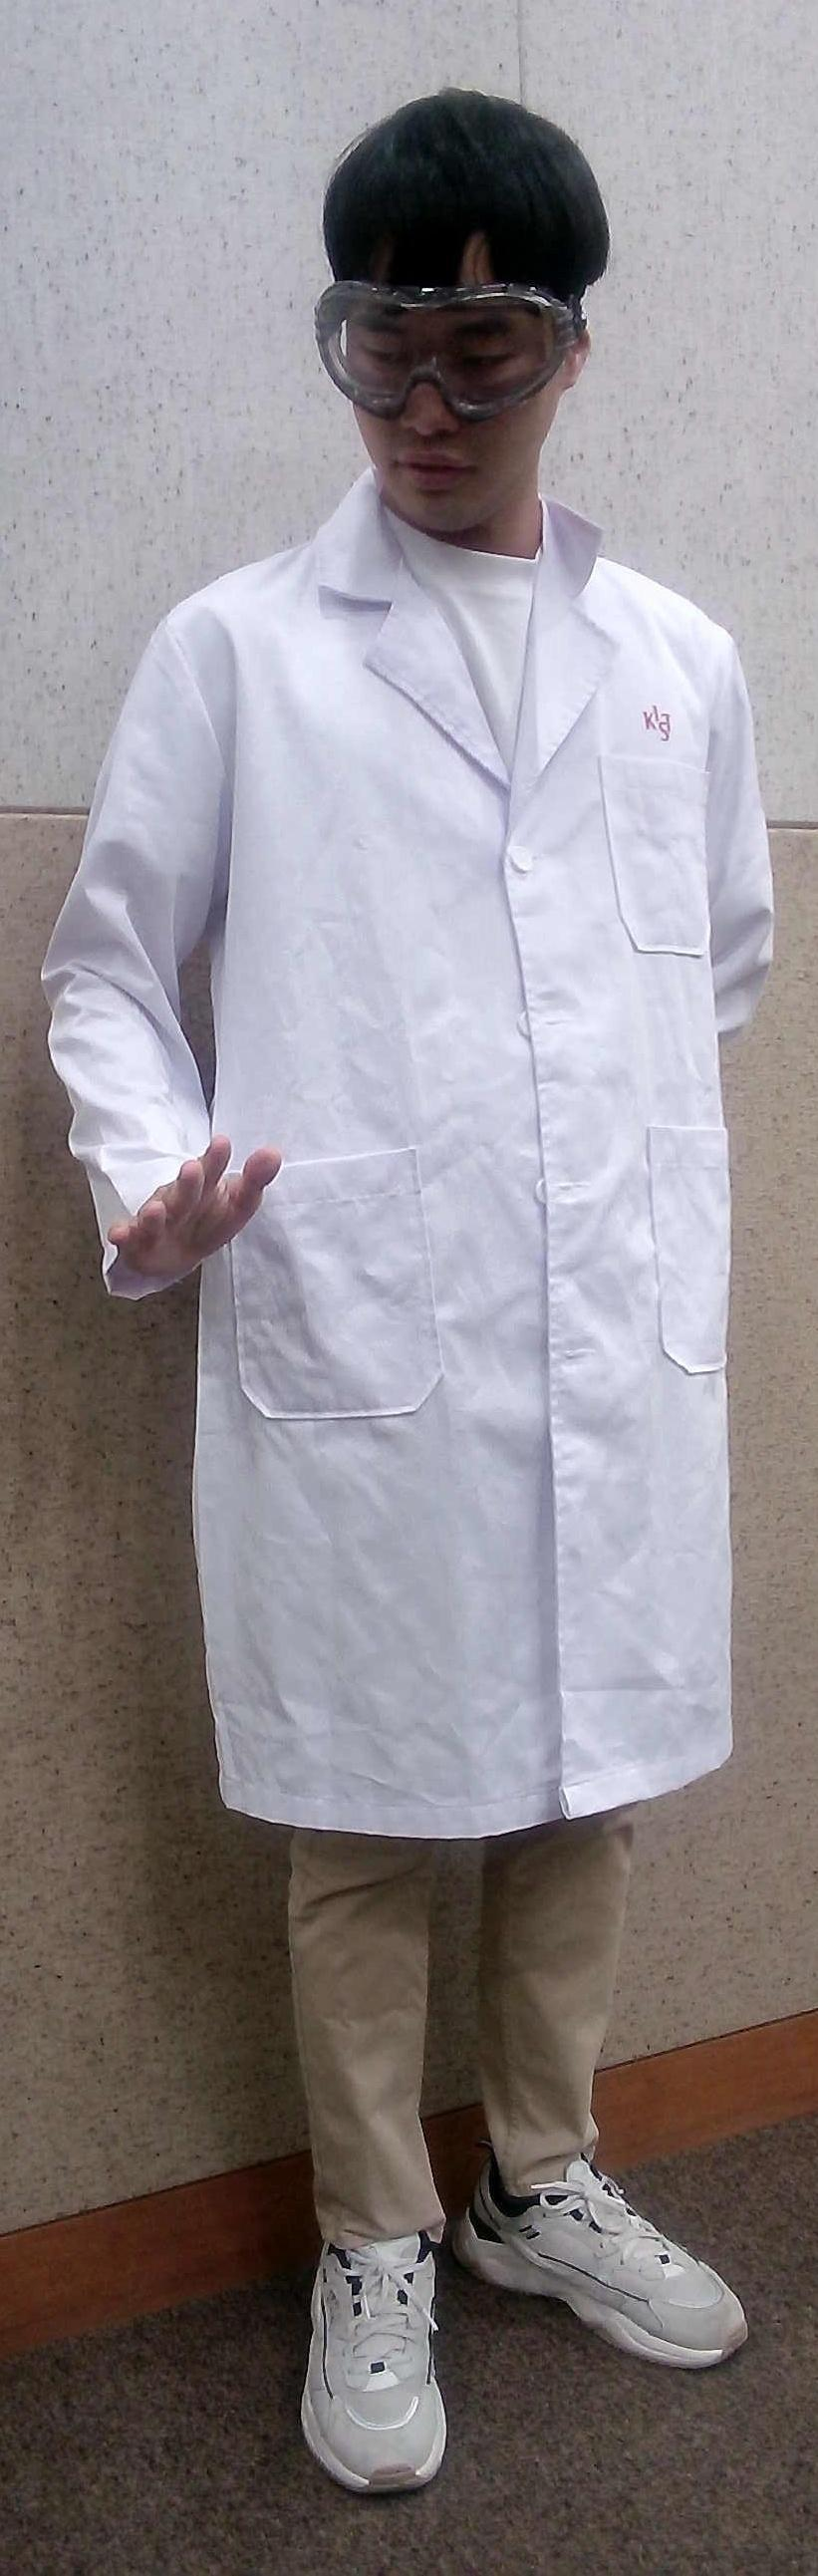lab_coat: (220, 573, 738, 1804)
